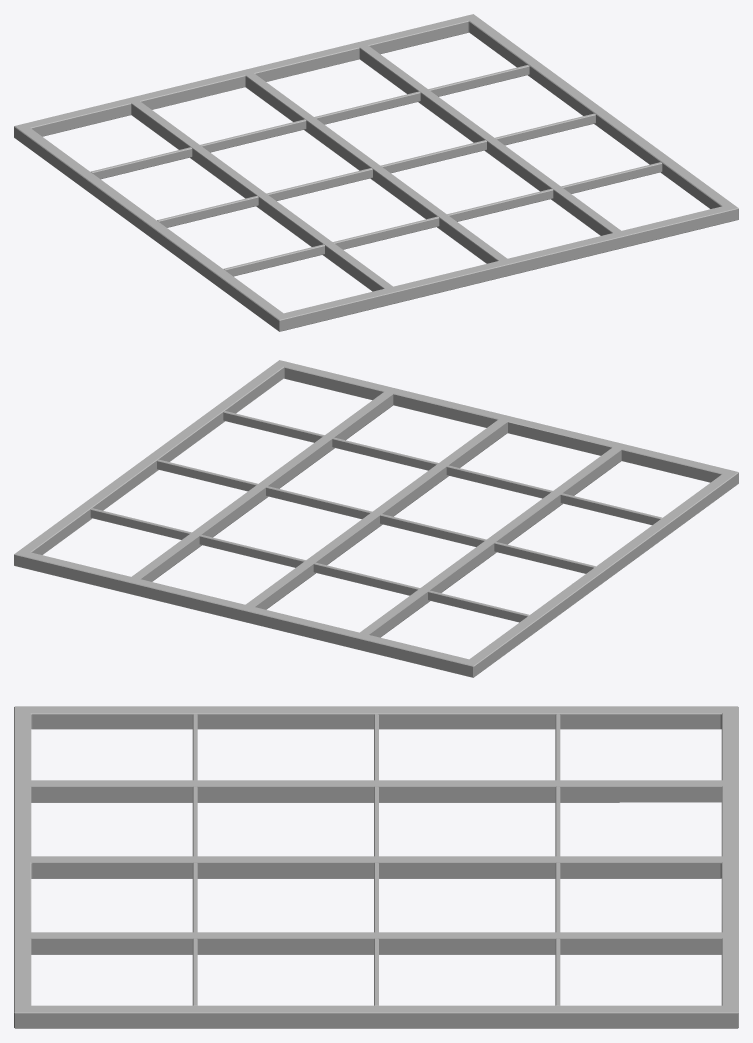
Rendered from refrigerated_roof_frame.glb.
3 renders of one model, top to bottom at view 1: azimuth 30°, elevation 25°; view 2: azimuth 150°, elevation 25°; view 3: azimuth 270°, elevation 25°, orthographic. The views are drawn at different scales.
Visible parts, largest first — view 1: RefrigeratedRoofFrame; view 2: RefrigeratedRoofFrame; view 3: RefrigeratedRoofFrame.
Boxes of the visible parts, <box> form: RefrigeratedRoofFrame: <box>14,14,738,331</box>; RefrigeratedRoofFrame: <box>14,360,738,677</box>; RefrigeratedRoofFrame: <box>14,706,738,1028</box>.
Bounding box in the file's own units: 4 × 0.1 × 4.
1 material, 1 textured.
